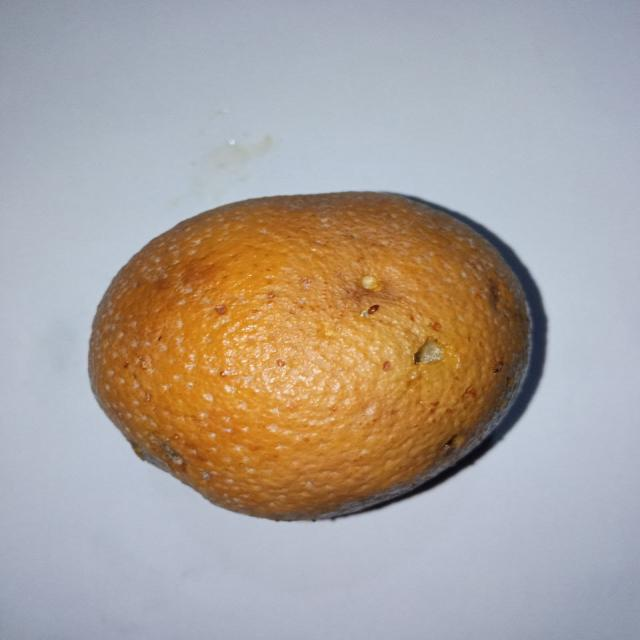rotten_orange: (87, 191, 533, 522)
